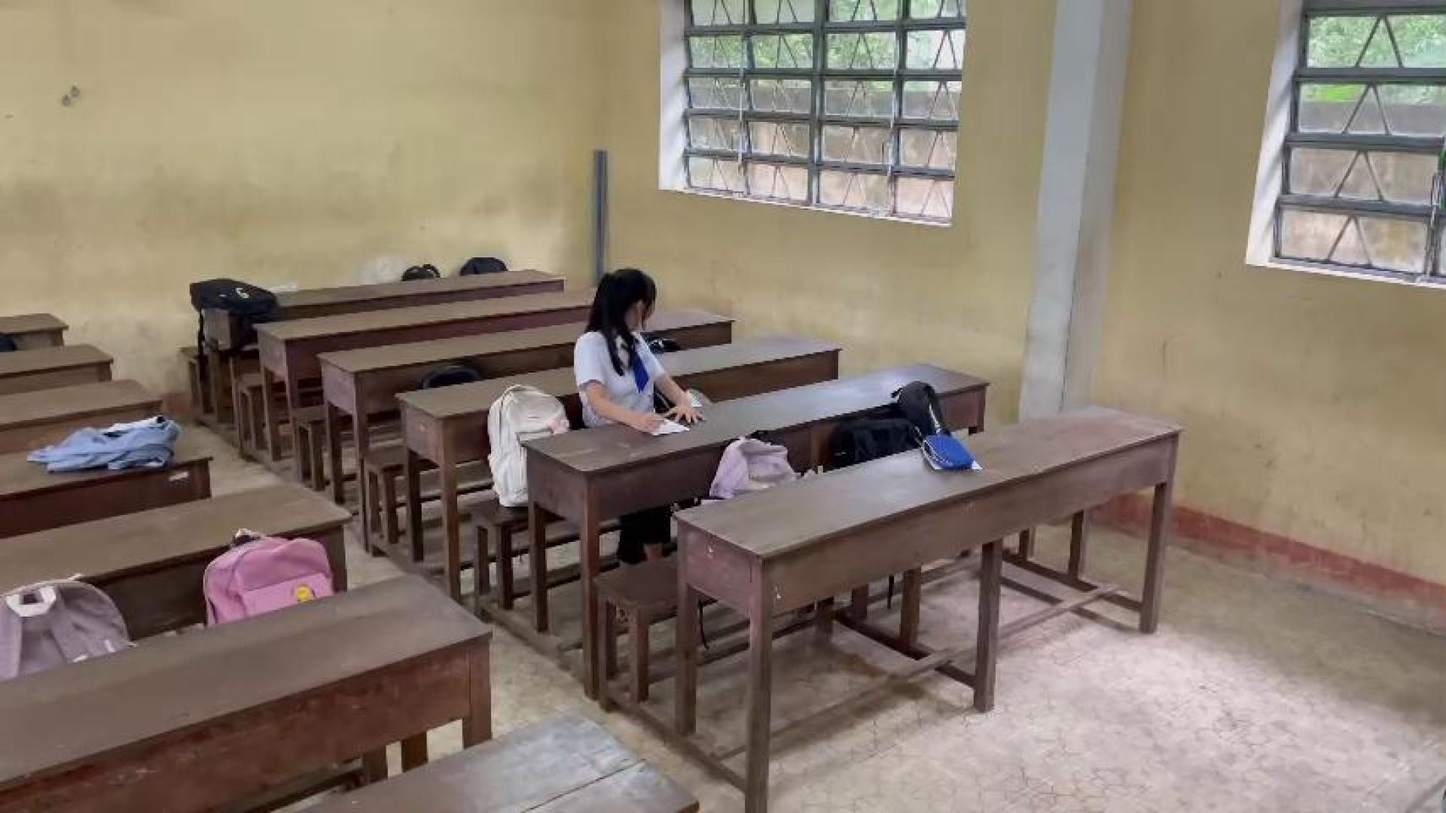Look Around: (587, 257, 662, 339)
